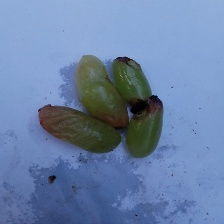grapes: (23, 5, 162, 204)
